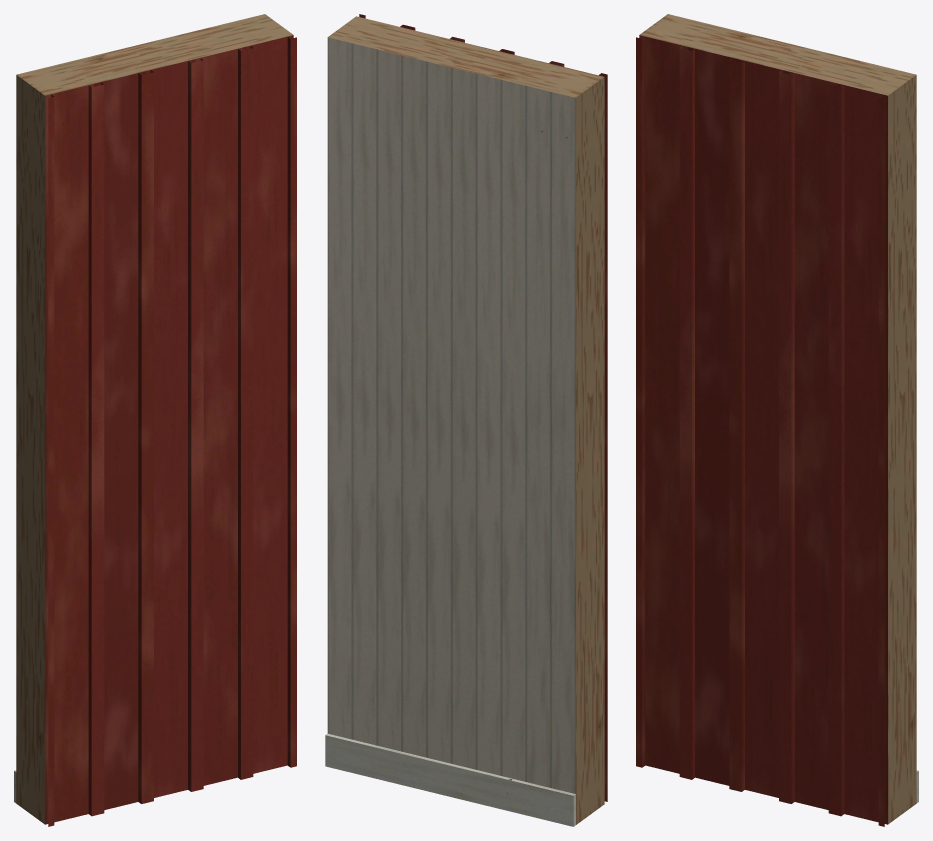
File: nordic-house-wall-half.glb
3 renders of one model, left to right at view 1: azimuth 30°, elevation 25°; view 2: azimuth 150°, elevation 25°; view 3: azimuth 330°, elevation 25°, orthographic.
Parts seen in each view (by area): view 1: wall_half; view 2: wall_half; view 3: wall_half.
Part boxes in pixels (bbox=[...]): wall_half: bbox=[14, 14, 296, 826]; wall_half: bbox=[325, 14, 607, 826]; wall_half: bbox=[636, 14, 918, 826].
Bounding box in the file's own units: 0.9999 × 2.8 × 0.2379.
Materials: 1 (1 with a texture image).
